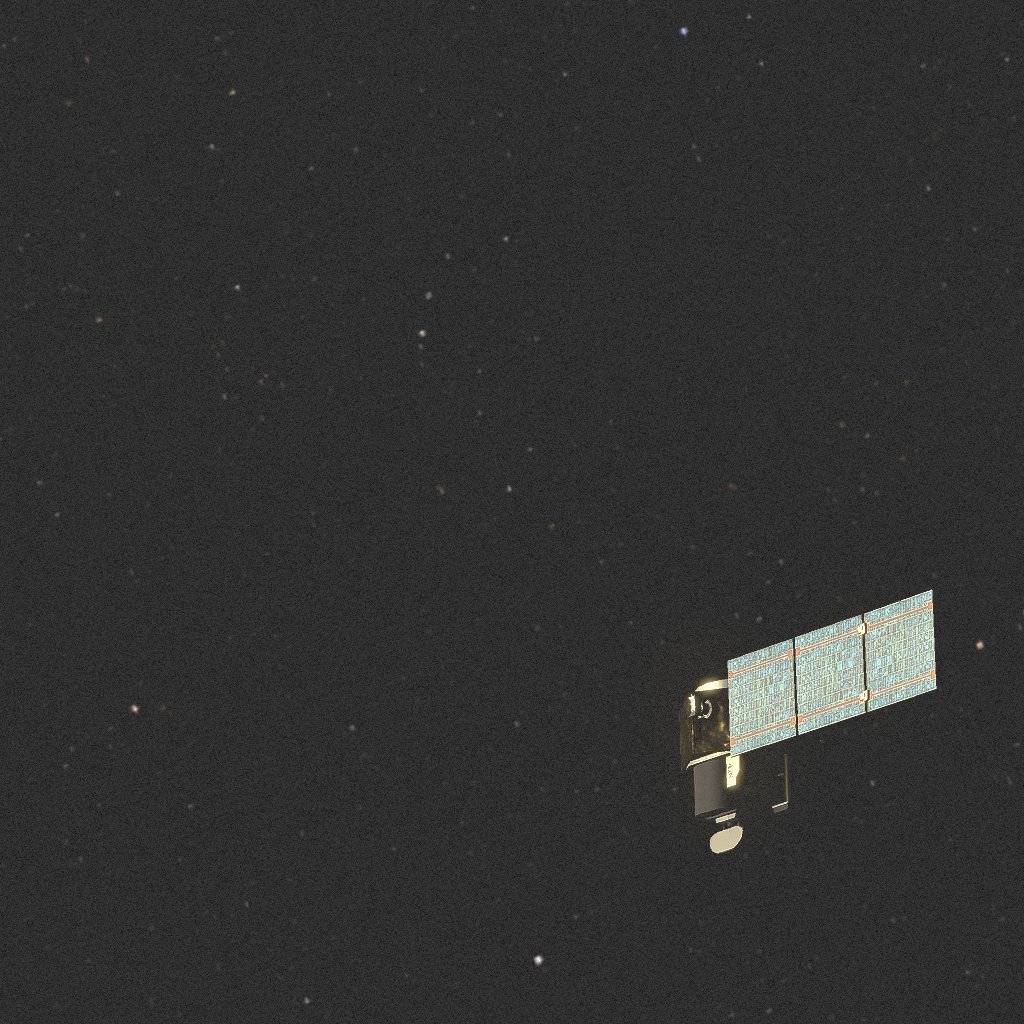earth_observation_sat_1: (660, 576, 930, 829)
